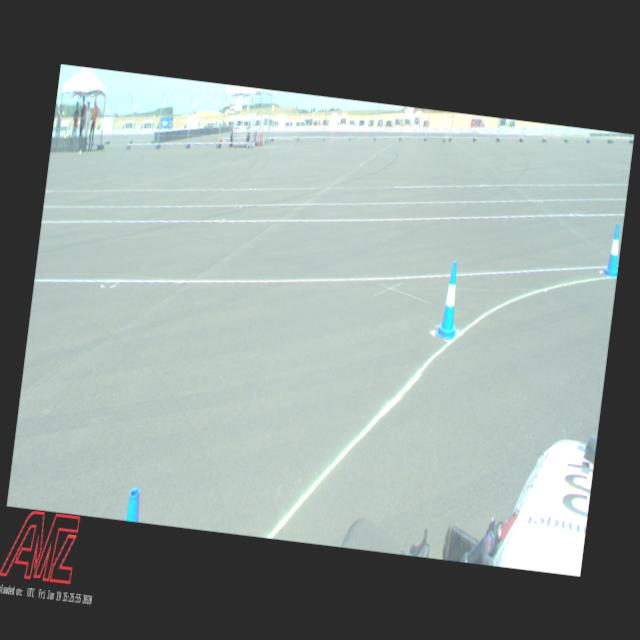blue_cone: (435, 260, 465, 340), (604, 222, 623, 276), (125, 486, 142, 521)
unknown_cone: (509, 132, 512, 137), (244, 132, 247, 136), (480, 132, 482, 138), (544, 132, 546, 138), (551, 134, 553, 139), (102, 132, 104, 136), (308, 128, 310, 132), (332, 132, 334, 136), (516, 133, 518, 137), (454, 130, 456, 134), (582, 134, 584, 138), (108, 132, 109, 136), (264, 130, 265, 134), (282, 130, 283, 134), (366, 132, 367, 136), (447, 132, 448, 136), (338, 128, 339, 132), (436, 130, 437, 134), (478, 130, 479, 134), (371, 130, 372, 132), (296, 129, 296, 133), (410, 131, 410, 136)
yellow_cone: (64, 128, 66, 136)
